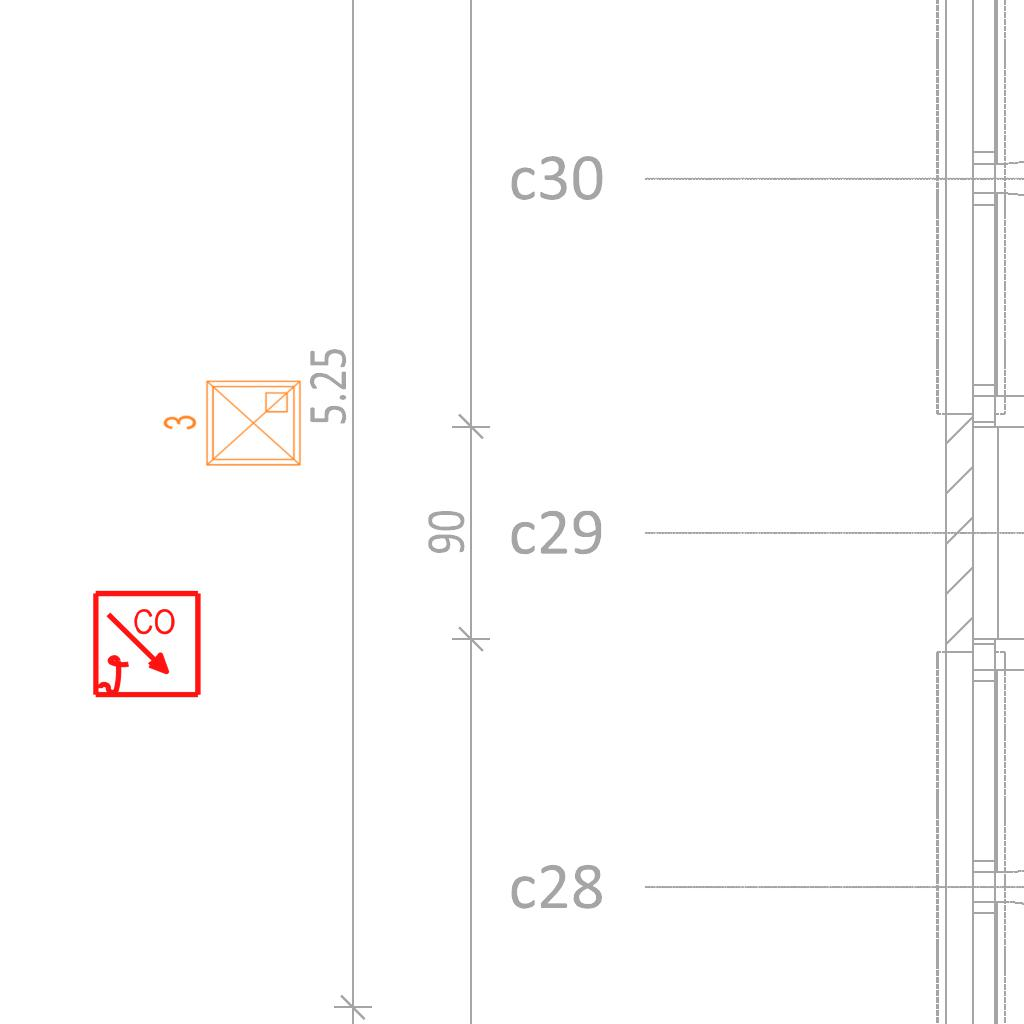Einbaudownlights_LED_Konferenzraeume: (158, 373, 308, 477)
ROA_Rauchmelder_optisch_mit_Signalgeber_(Sockelsirene): (91, 589, 204, 702)
